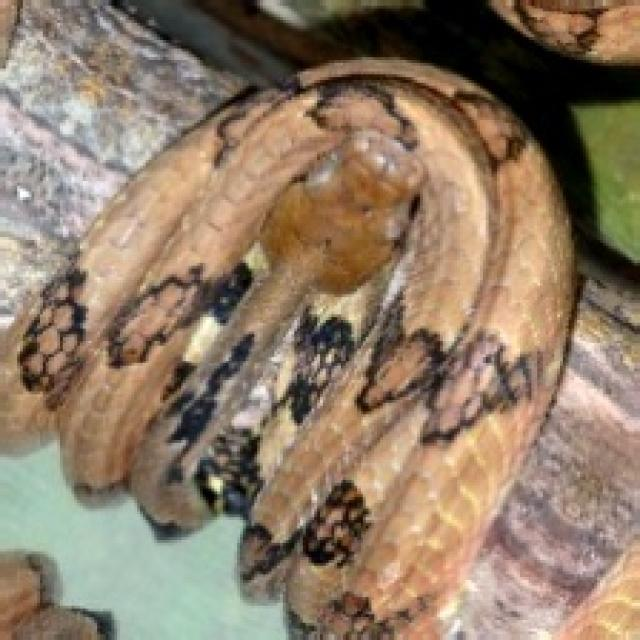dog-toothed cat snake: (0, 60, 574, 637)
